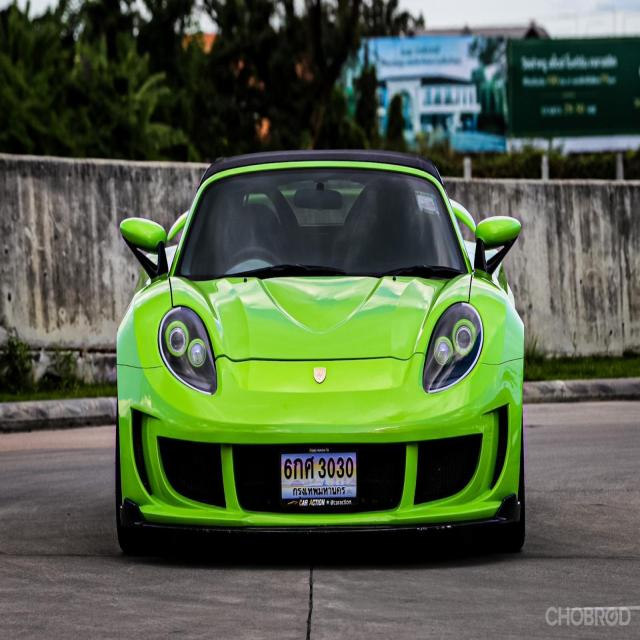license_plate: (278, 448, 359, 510)
